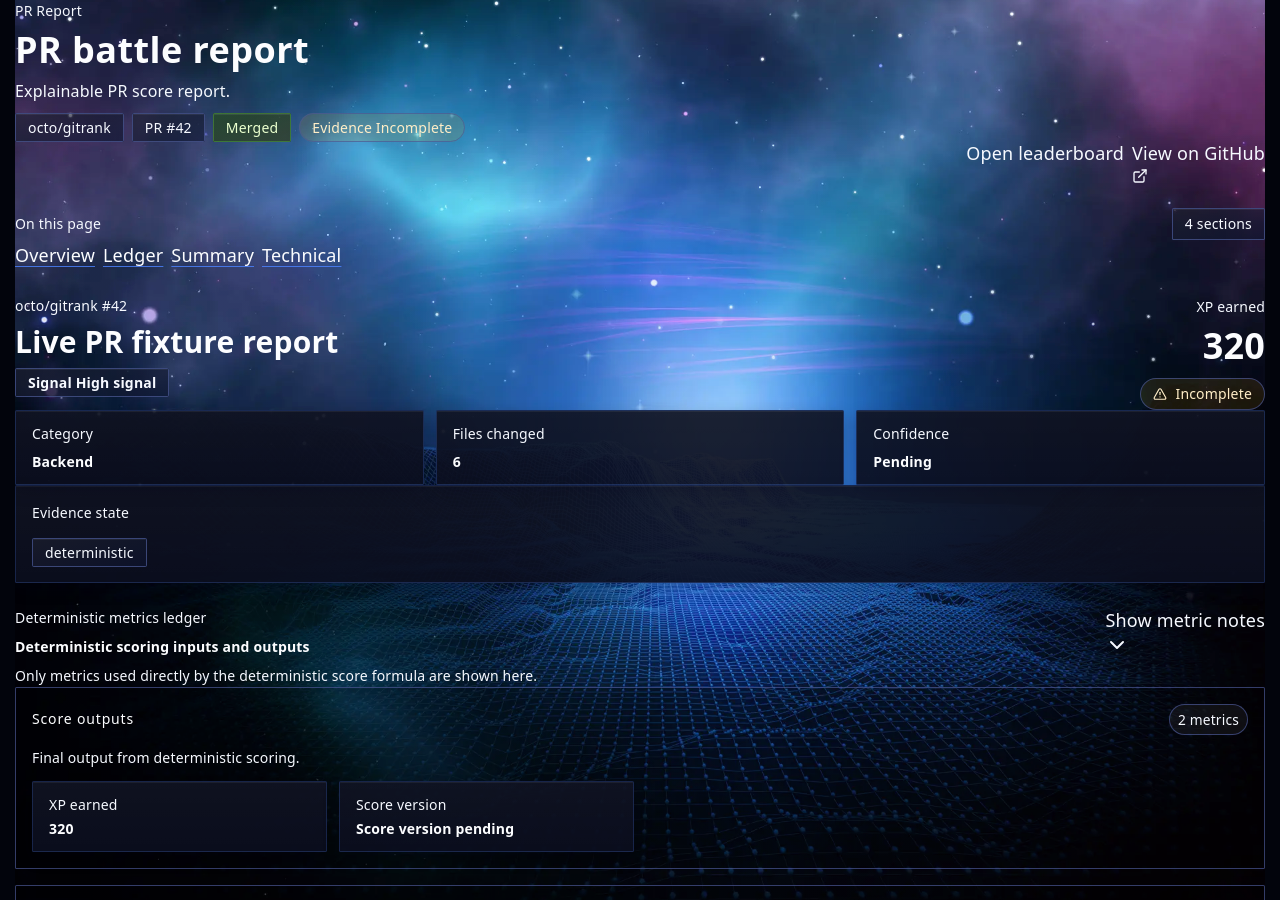
Test: live fixture frontend smoke coverage › renders PR battle report from the live PR report fixture route
This screenshot has width=1280, height=900.
Expected: the heading "Live PR fixture report" is shown, [15,324,338,360]
Click the button "Show metric notes" at (1185, 632), box [1105,607,1265,657]
(page scrolled)
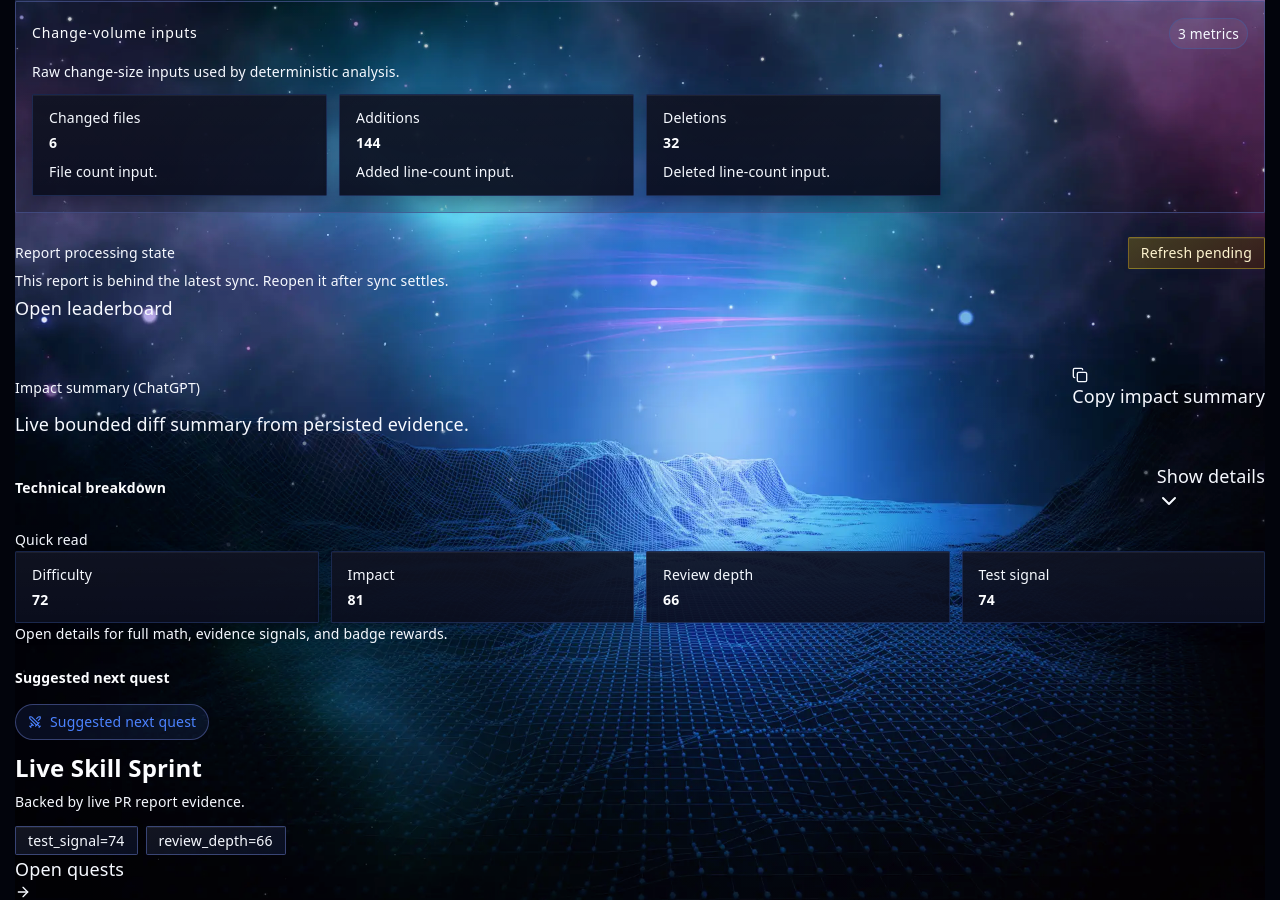
Click the button "Show details" at (1211, 488), box [1157,463,1265,513]
(page scrolled)
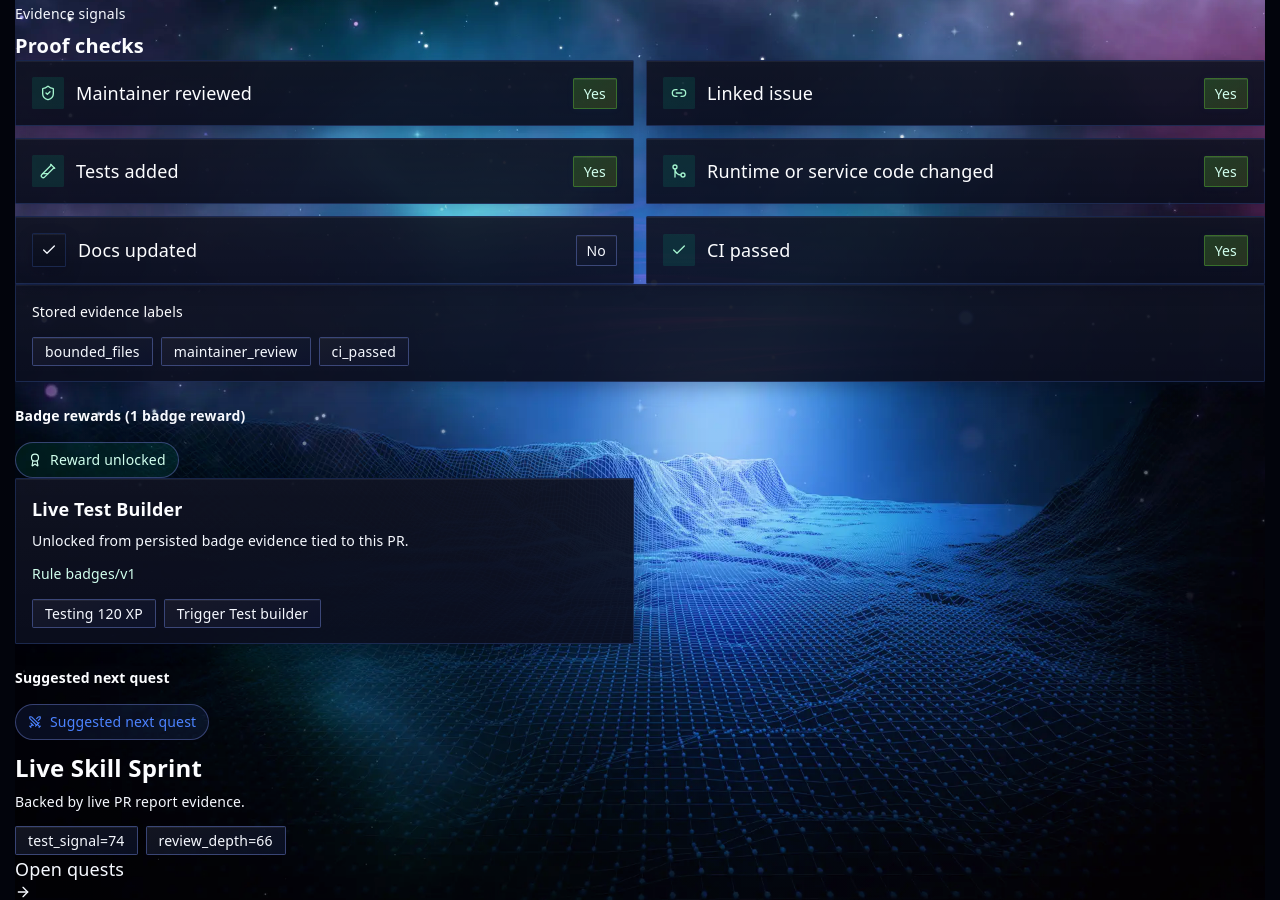
Now the text "Live Test Builder" is shown, box [32,497,183,521]
